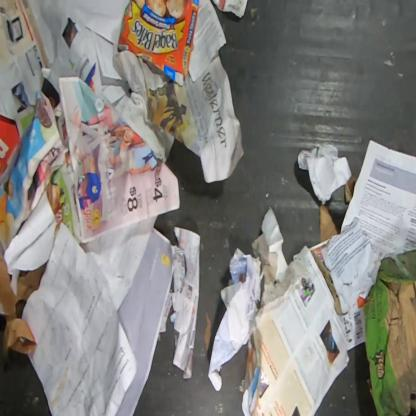cardboard: (364, 250, 415, 415), (118, 0, 199, 86), (319, 203, 338, 243), (345, 176, 356, 205)
